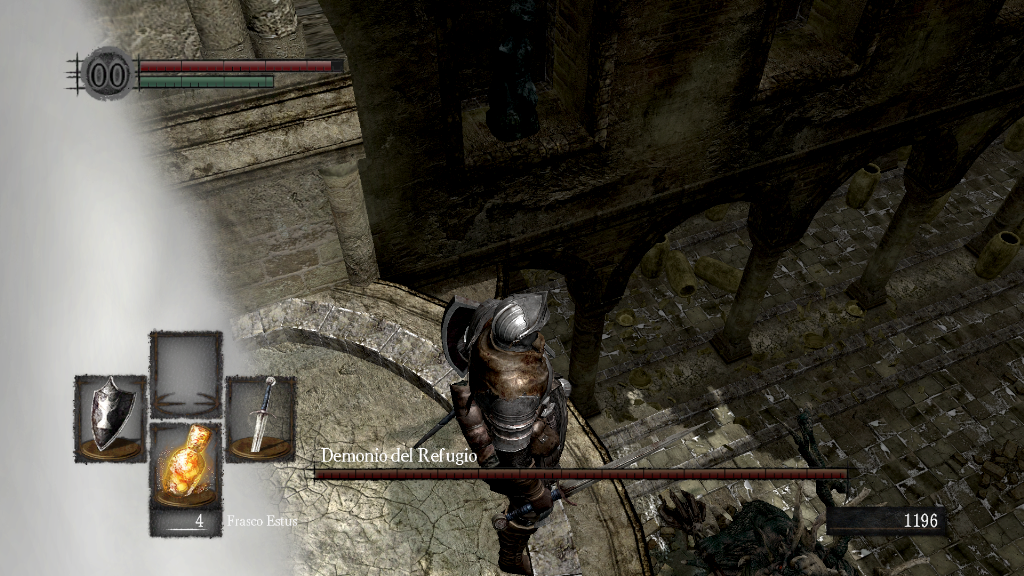bossHP: (314, 469, 847, 479)
health: (138, 58, 343, 71)
humanity: (80, 45, 136, 102)
player: (442, 291, 569, 576)
souls: (825, 506, 945, 536)
stamina: (138, 74, 274, 88)
